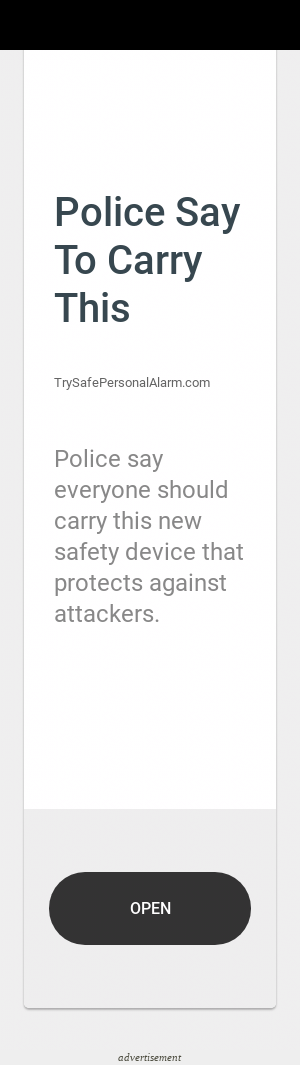fake_button: (30, 860, 250, 960)
